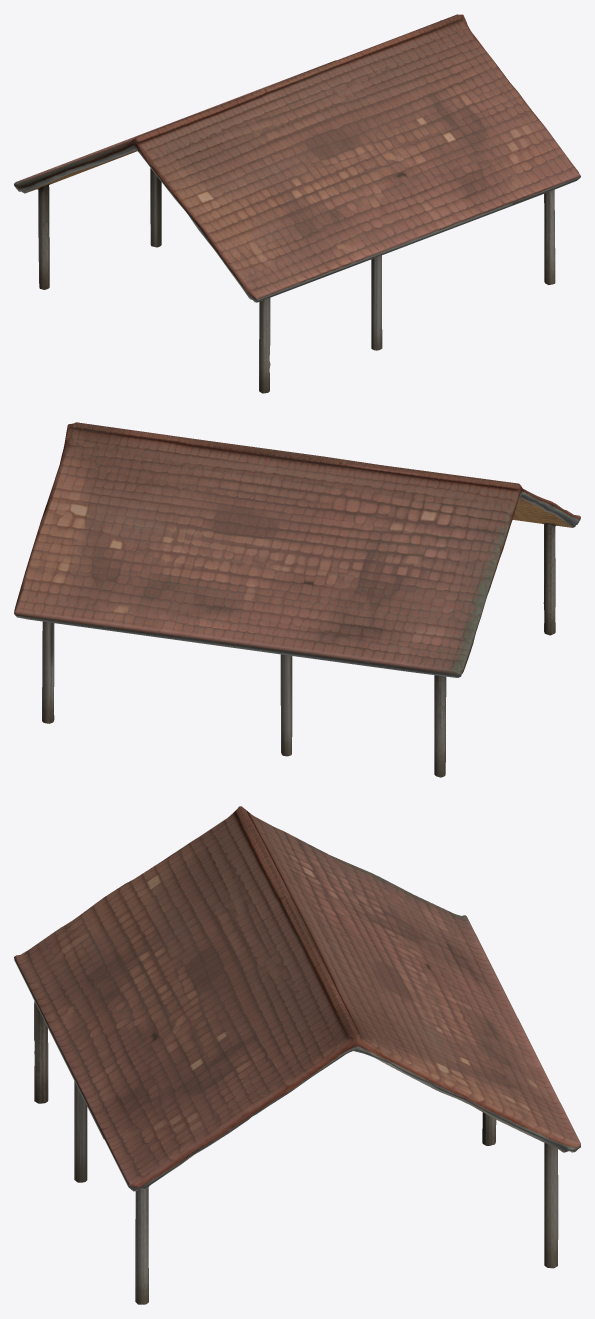
File: roof1.obj
The picture shows the model from 3 angles, top to bottom: view 1: azimuth 30°, elevation 25°; view 2: azimuth 150°, elevation 25°; view 3: azimuth 270°, elevation 25°; orthographic projection. The views are drawn at different scales.
Parts seen in each view (by area): view 1: Roofgeom1; view 2: Roofgeom1; view 3: Roofgeom1.
Boxes of the visible parts, box(x1,y1,x2,y2) form: Roofgeom1: box(14, 14, 580, 393); Roofgeom1: box(14, 422, 580, 777); Roofgeom1: box(14, 806, 580, 1304).
Size of the model in its own units: 17.66 by 8.09 by 15.67.
Materials: 1 (1 with a texture image).
